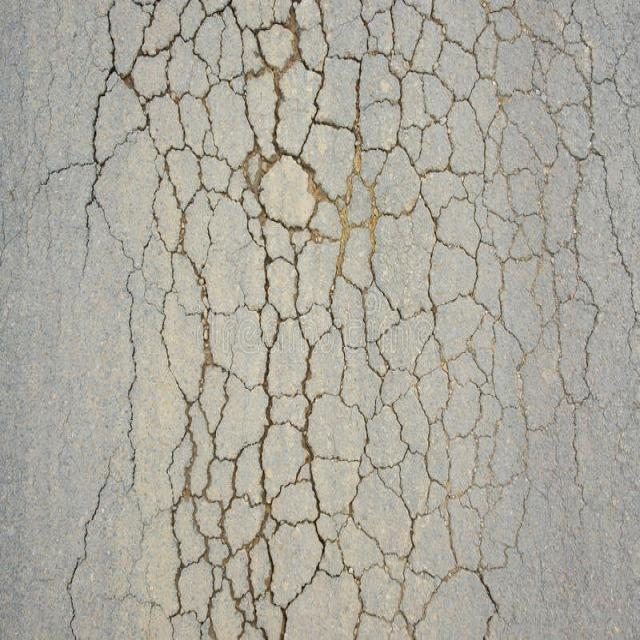Pothole: (80, 44, 410, 335)
